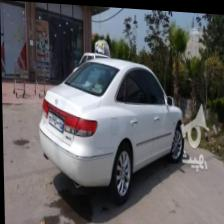plate: (48, 109, 63, 131)
